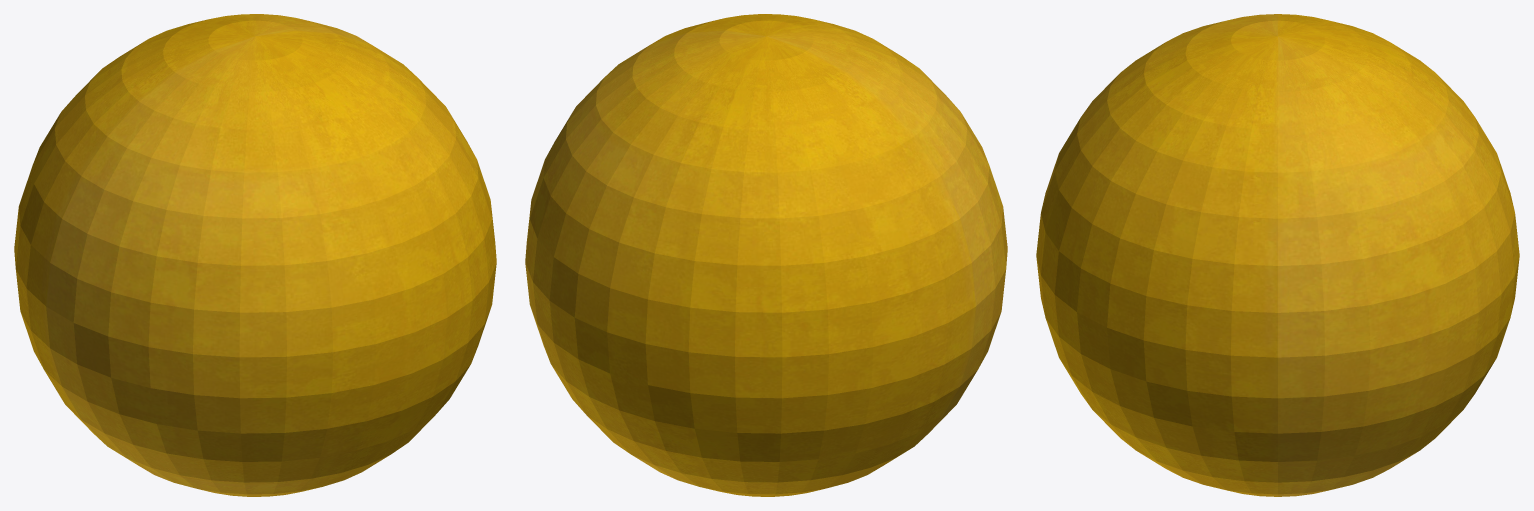
Rendered from terepot3.fbx.
3 renders of one model, left to right at view 1: azimuth 30°, elevation 25°; view 2: azimuth 150°, elevation 25°; view 3: azimuth 270°, elevation 25°, orthographic.
Parts seen in each view (by area): view 1: terepot; view 2: terepot; view 3: terepot.
Part boxes in pixels (left/top/right/bottom): terepot: left=14, top=14, right=496, bottom=496; terepot: left=525, top=14, right=1007, bottom=496; terepot: left=1036, top=14, right=1519, bottom=496.
Size of the model in its own units: 45.98 by 45.98 by 45.98.
Materials: 1 (1 with a texture image).
